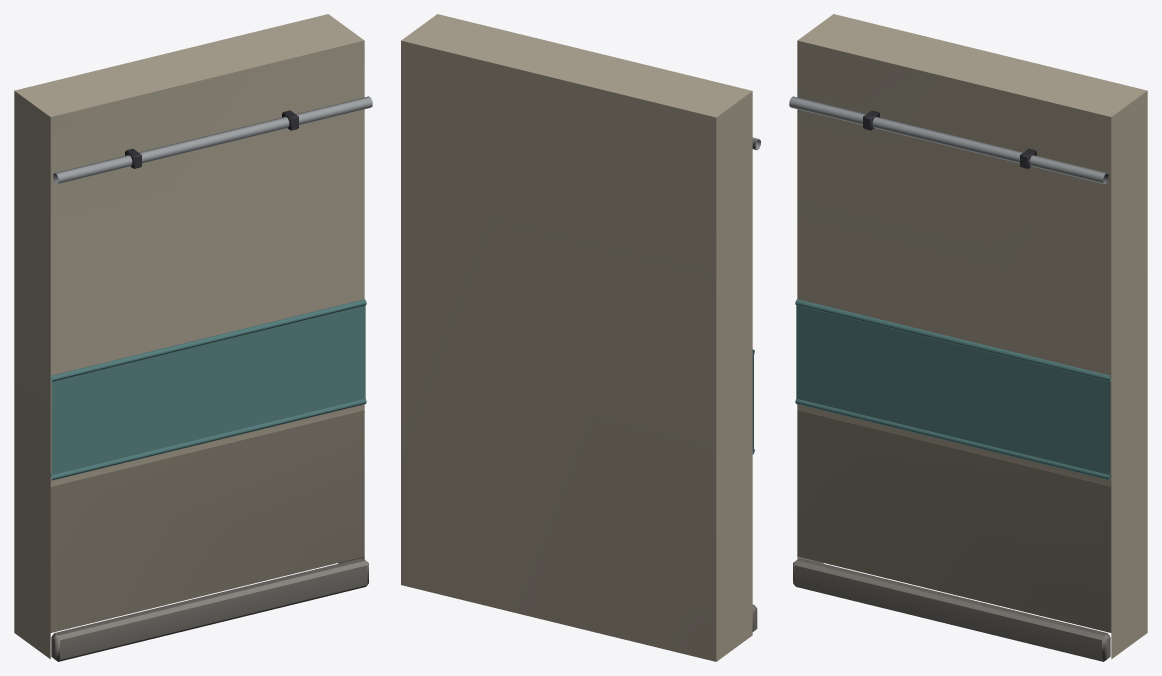
The model's file is UnderpassWall.fbx.
3 renders of one model, left to right at view 1: azimuth 30°, elevation 25°; view 2: azimuth 150°, elevation 25°; view 3: azimuth 330°, elevation 25°, orthographic.
Parts seen in each view (by area): view 1: UnderpassWall; view 2: UnderpassWall; view 3: UnderpassWall.
Boxes of the visible parts, x1,y1,x2,y2 form: UnderpassWall: (14,14,372,661); UnderpassWall: (401,14,760,661); UnderpassWall: (789,14,1147,661).
Size of the model in its own units: 2 by 3.3 by 0.5.
